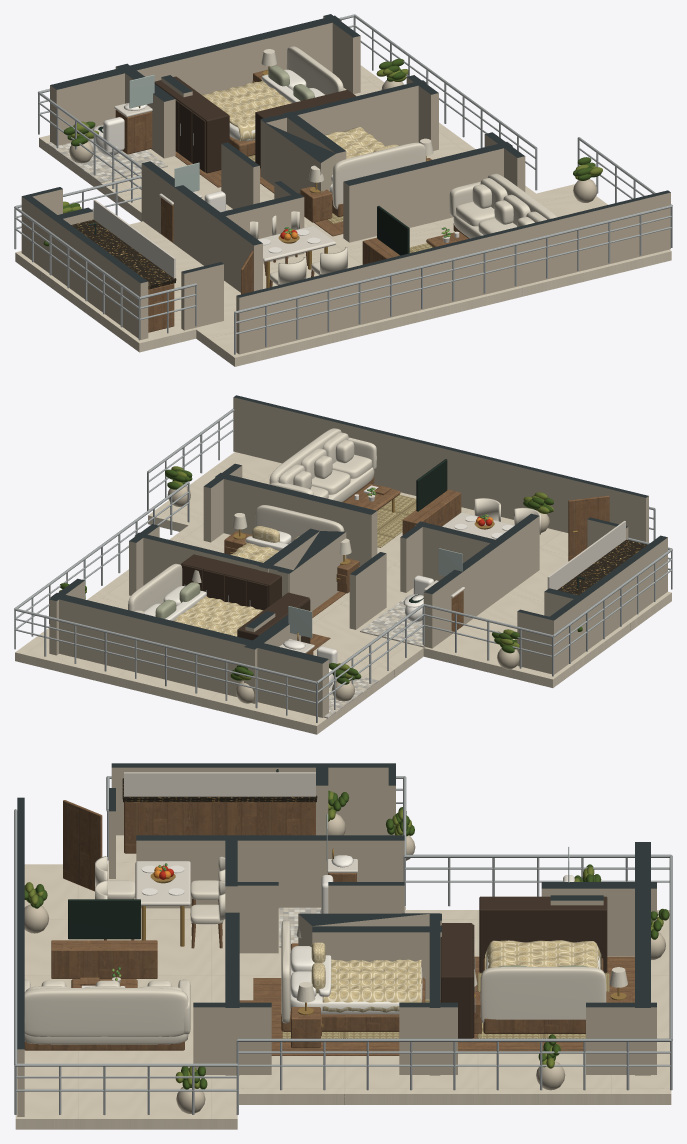
3 renders of one model, top to bottom at view 1: azimuth 30°, elevation 25°; view 2: azimuth 150°, elevation 25°; view 3: azimuth 270°, elevation 25°, orthographic. The views are drawn at different scales.
Parts seen in each view (by area): view 1: Source-traced internal and perimeter walls • Wall, Continuous apartment foundation, Soft jacquard duvet with folds.001, Padded headboard, Fitted dark wardrobe.001, Deep green kitchen stone, Backsplash, Bathroom mosaic floor.001, Balcony top rail, Padded headboard.001, Dining top, Fitted dark wardrobe (+19 smaller); view 2: Source-traced internal and perimeter walls • Wall, Continuous apartment foundation, Soft jacquard duvet with folds.001, Padded headboard, Oak entrance door, Backsplash, Fitted dark wardrobe, Deep green kitchen stone, Padded headboard.001, Bathroom mosaic floor, Walnut media console, Living patterned carpet (+20 smaller); view 3: Source-traced internal and perimeter walls • Wall, Continuous apartment foundation, Sofa back, Base cabinets, Padded headboard.001, Fitted dark wardrobe.001, Backsplash, Soft jacquard duvet with folds, Walnut media console, Fitted dark wardrobe, Television, Soft jacquard duvet with folds.001 (+35 smaller).
Boxes of the visible parts, <box> form: Source-traced internal and perimeter walls • Wall: <box>21,14,670,354</box>; Continuous apartment foundation: <box>15,65,671,366</box>; Soft jacquard duvet with folds.001: <box>201,80,291,141</box>; Padded headboard: <box>332,142,425,209</box>; Fitted dark wardrobe.001: <box>154,76,229,173</box>; Deep green kitchen stone: <box>71,219,176,287</box>; Backsplash: <box>93,199,175,278</box>; Bathroom mosaic floor.001: <box>47,138,167,183</box>; Balcony top rail: <box>234,205,672,313</box>; Padded headboard.001: <box>286,46,343,94</box>; Dining top: <box>258,226,335,261</box>; Fitted dark wardrobe: <box>255,90,355,168</box>; Source-traced internal and perimeter walls • Wall: <box>49,395,667,717</box>; Continuous apartment foundation: <box>15,452,671,734</box>; Soft jacquard duvet with folds.001: <box>174,596,263,636</box>; Padded headboard: <box>255,505,344,541</box>; Oak entrance door: <box>568,495,609,561</box>; Backsplash: <box>547,521,625,589</box>; Fitted dark wardrobe: <box>181,554,281,606</box>; Deep green kitchen stone: <box>557,539,647,595</box>; Padded headboard.001: <box>128,563,182,611</box>; Bathroom mosaic floor: <box>360,594,425,647</box>; Walnut media console: <box>402,489,461,534</box>; Living patterned carpet: <box>377,494,416,547</box>; Source-traced internal and perimeter walls • Wall: <box>17,763,656,1116</box>; Continuous apartment foundation: <box>15,835,671,1129</box>; Sofa back: <box>24,988,188,1036</box>; Base cabinets: <box>124,802,315,853</box>; Padded headboard.001: <box>480,967,606,1023</box>; Fitted dark wardrobe.001: <box>479,896,607,972</box>; Backsplash: <box>124,772,315,796</box>; Soft jacquard duvet with folds: <box>322,959,421,1012</box>; Walnut media console: <box>51,940,157,978</box>; Fitted dark wardrobe: <box>440,923,472,1038</box>; Television: <box>68,899,140,939</box>; Soft jacquard duvet with folds.001: <box>485,940,601,969</box>.
Size of the model in its own units: 10.27 by 1.7 by 9.89.
26 materials, 6 textured.
